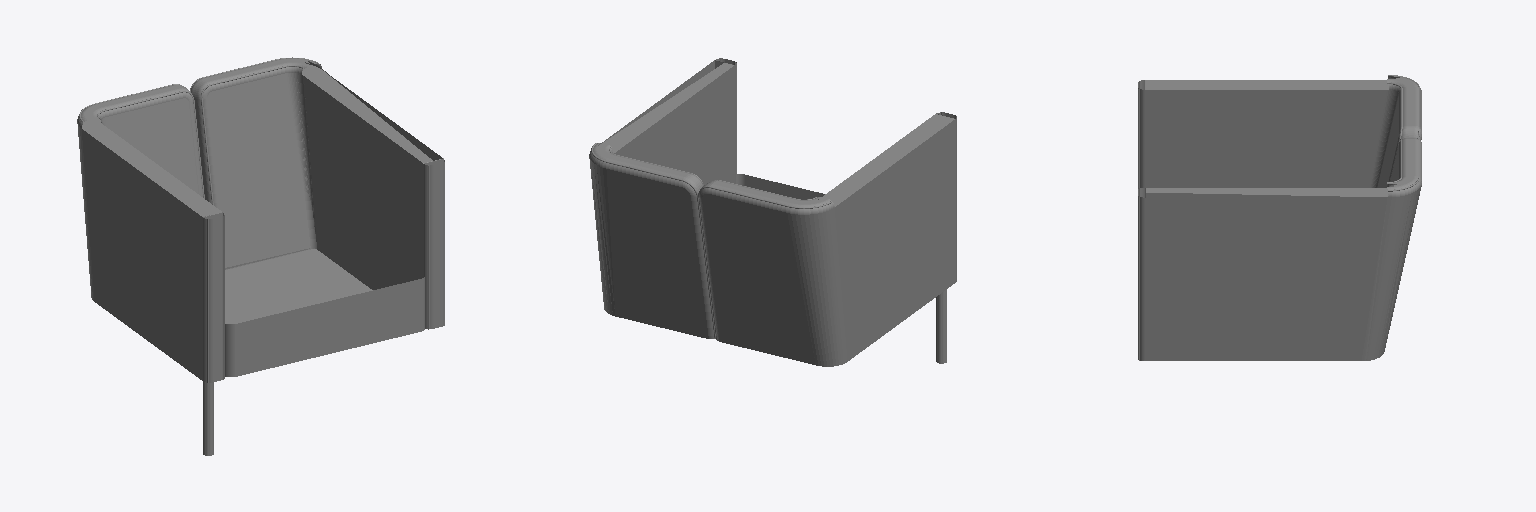
Rendered from leg1.obj.
The picture shows the model from 3 angles: view 1: azimuth 30°, elevation 25°; view 2: azimuth 150°, elevation 25°; view 3: azimuth 270°, elevation 25°; orthographic projection.
Visible parts, largest first — view 1: leg1; view 2: leg1; view 3: leg1.
Part boxes in pixels (bbox=[...]): leg1: bbox=[77, 57, 444, 455]; leg1: bbox=[589, 58, 956, 366]; leg1: bbox=[1138, 75, 1421, 360].
Size of the model in its own units: 28.08 by 27.71 by 28.75.